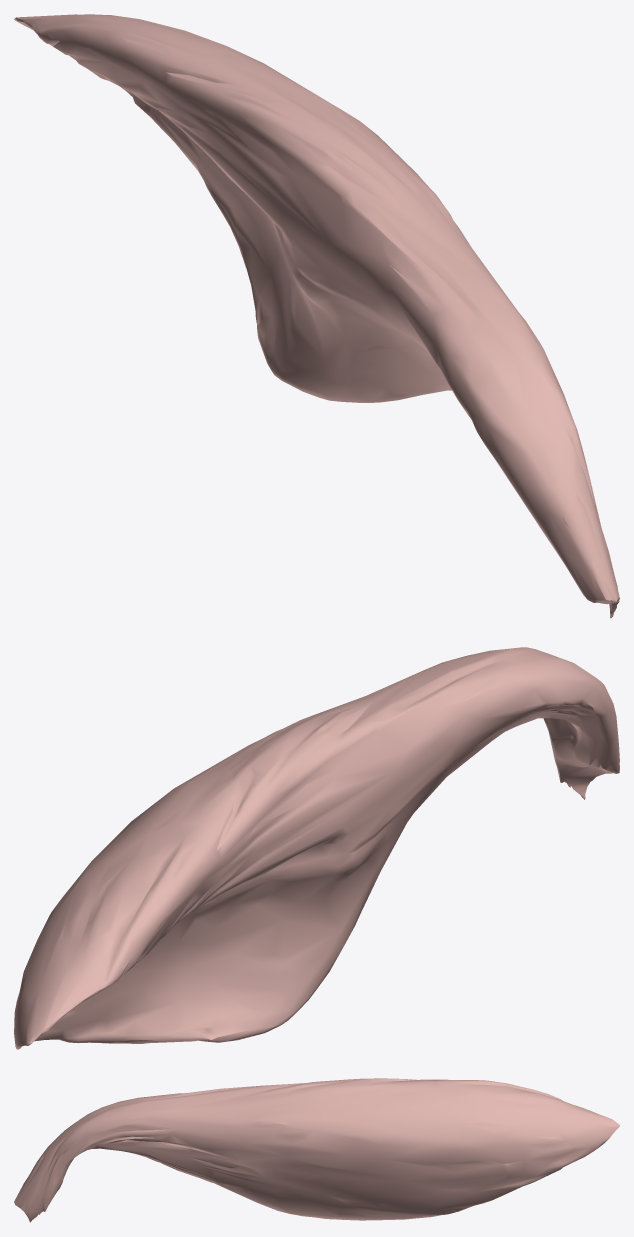
The model's file is gastrocnemius_medial.glb.
3 views of the same model, one above another, from view 1: azimuth 30°, elevation 25°; view 2: azimuth 150°, elevation 25°; view 3: azimuth 270°, elevation 25° (orthographic). The views are drawn at different scales.
Parts seen in each view (by area): view 1: gastrocnemius_medial; view 2: gastrocnemius_medial; view 3: gastrocnemius_medial.
Boxes of the visible parts, x1,y1,x2,y2 form: gastrocnemius_medial: (14, 14, 619, 618); gastrocnemius_medial: (14, 647, 619, 1049); gastrocnemius_medial: (14, 1078, 619, 1222).
Bounding box in the file's own units: 52.48 × 79.03 × 309.
